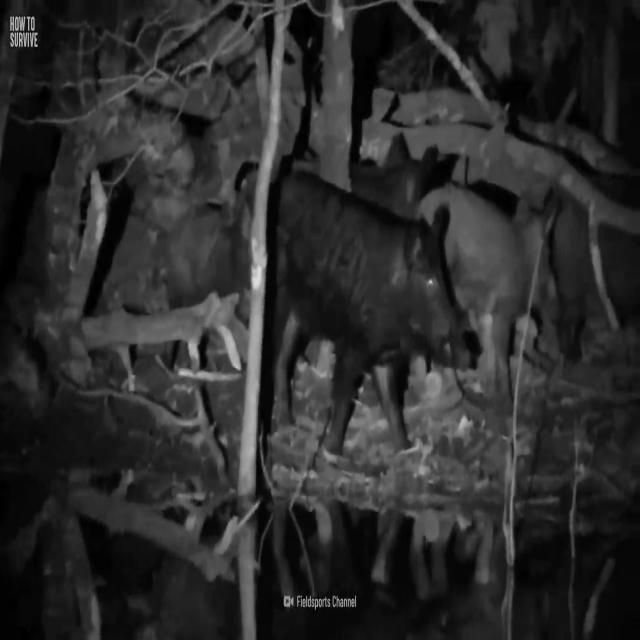pig: (234, 133, 482, 456)
